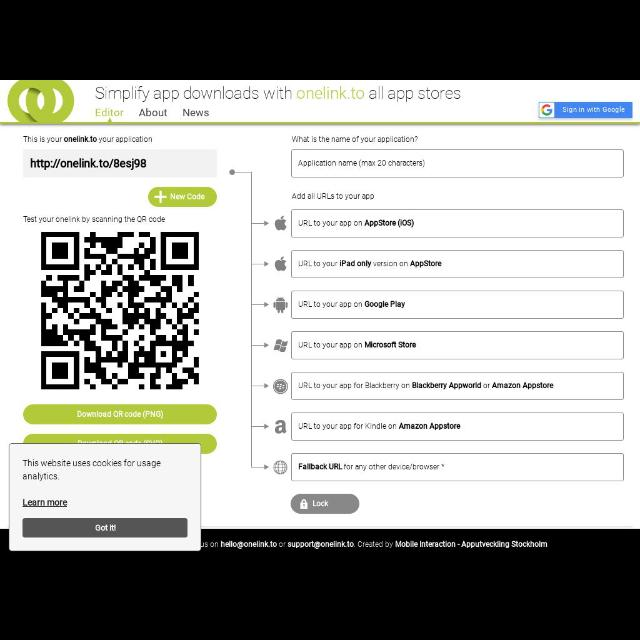icon: (272, 335, 290, 353), (272, 378, 290, 396), (274, 294, 288, 316), (272, 419, 288, 436), (272, 218, 288, 232), (274, 460, 288, 474), (276, 255, 286, 273)
image: (40, 232, 198, 388), (230, 166, 272, 472), (10, 81, 76, 122)
text: (97, 86, 460, 102), (20, 456, 166, 482), (298, 378, 554, 392), (209, 541, 546, 547), (298, 422, 464, 432), (298, 461, 446, 471), (300, 258, 442, 268), (31, 157, 148, 169), (298, 341, 417, 352), (24, 215, 168, 223), (298, 218, 412, 228), (298, 300, 407, 310), (297, 159, 425, 167), (22, 136, 152, 142), (292, 136, 418, 142), (291, 192, 373, 200), (19, 498, 70, 508), (92, 108, 126, 120), (182, 108, 208, 118), (138, 108, 168, 116)
textbutton: (24, 404, 216, 424), (23, 520, 187, 536), (290, 493, 360, 515), (540, 102, 632, 118), (148, 189, 215, 205)
toolbar: (1, 82, 639, 125)
